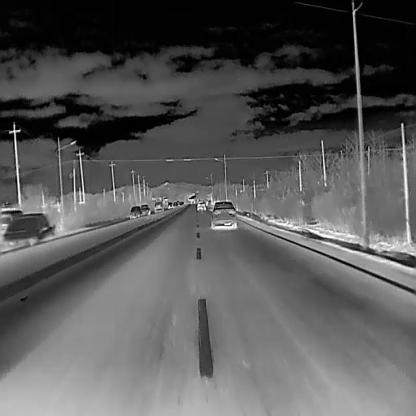car: (0, 212, 55, 252), (210, 200, 237, 229), (0, 208, 22, 236), (129, 204, 141, 218), (139, 203, 150, 215), (196, 200, 206, 210), (166, 201, 172, 209), (172, 202, 178, 208), (179, 200, 184, 205), (176, 200, 179, 205)
truck: (153, 201, 162, 212)
